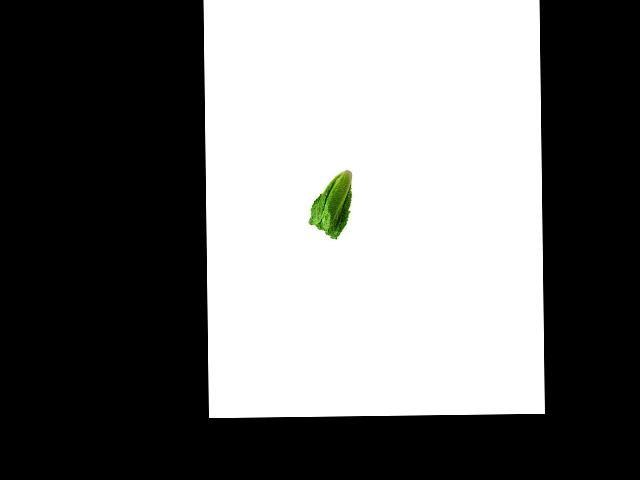lettuce: (307, 163, 353, 239)
